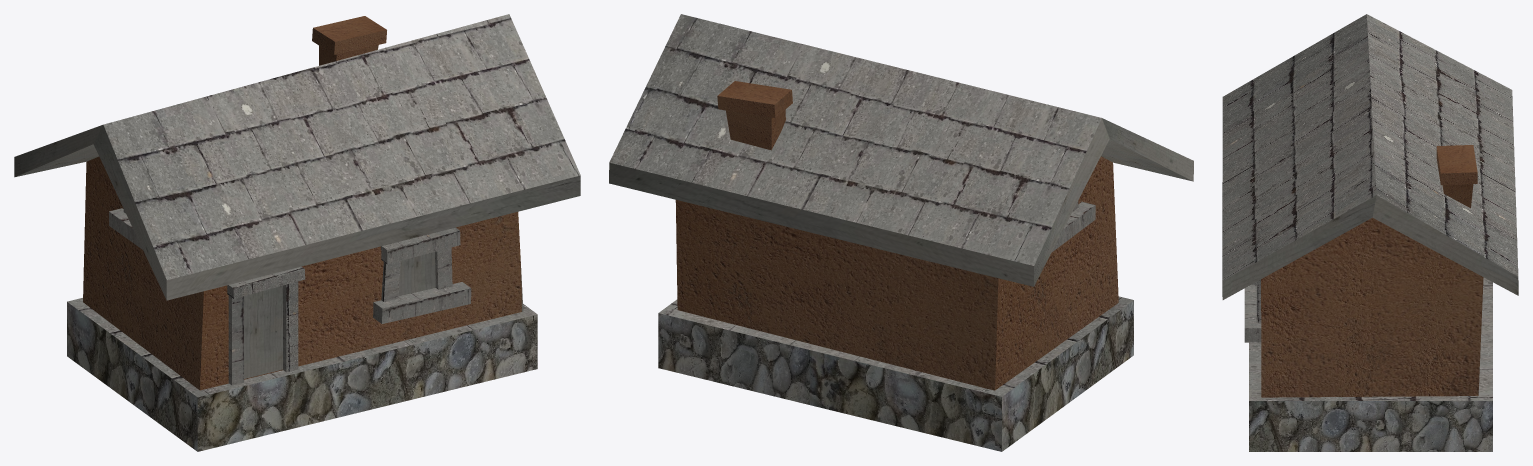
The model's file is house.glb.
The picture shows the model from 3 angles, left to right: view 1: azimuth 30°, elevation 25°; view 2: azimuth 150°, elevation 25°; view 3: azimuth 270°, elevation 25°; orthographic projection. The views are drawn at different scales.
Visible parts, largest first — view 1: House; view 2: House; view 3: House.
Part boxes in pixels (left/top/right/bottom): House: left=14, top=14, right=580, bottom=451; House: left=609, top=14, right=1193, bottom=451; House: left=1222, top=14, right=1518, bottom=451.
Bounding box in the file's own units: 7.5 × 4.98 × 4.86.
1 material, 1 textured.
